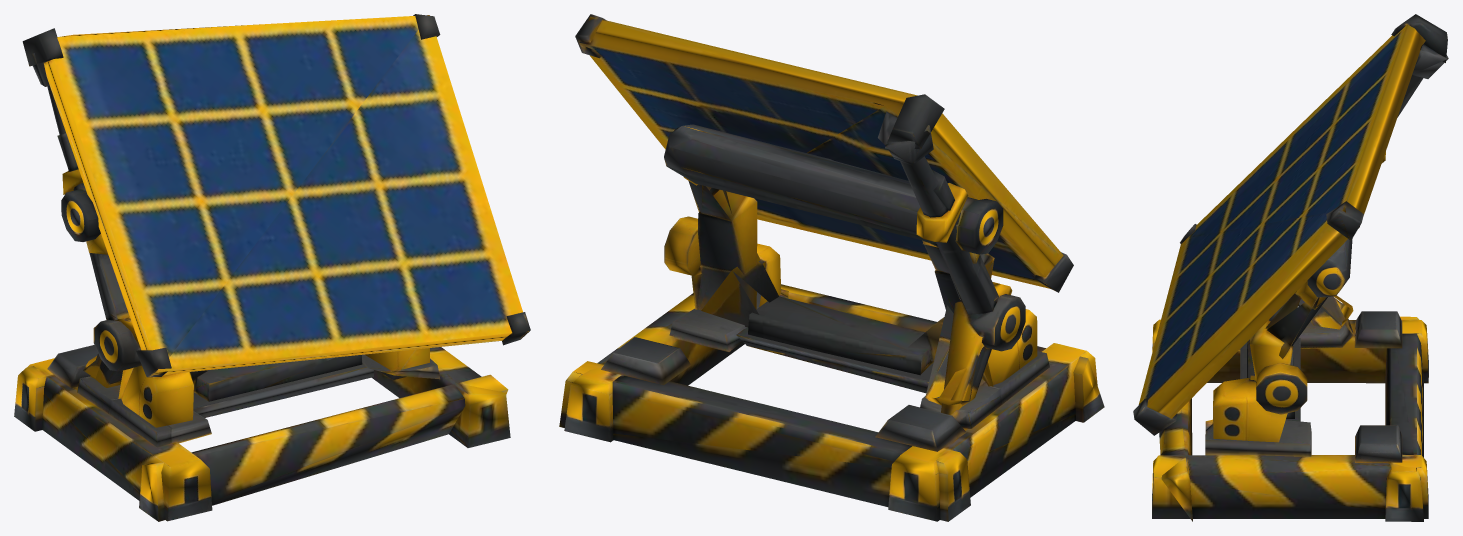
File: solar-panel-1.glb
The picture shows the model from 3 angles, left to right: view 1: azimuth 30°, elevation 25°; view 2: azimuth 150°, elevation 25°; view 3: azimuth 270°, elevation 25°; orthographic projection. The views are drawn at different scales.
Visible parts, largest first — view 1: geometry_0; view 2: geometry_0; view 3: geometry_0.
Boxes of the visible parts, box(x1,y1,x2,y2) form: geometry_0: box(14, 14, 530, 521); geometry_0: box(559, 14, 1104, 521); geometry_0: box(1133, 14, 1448, 521).
Size of the model in its own units: 0.9482 by 0.915 by 0.7388.
1 material, 1 textured.
